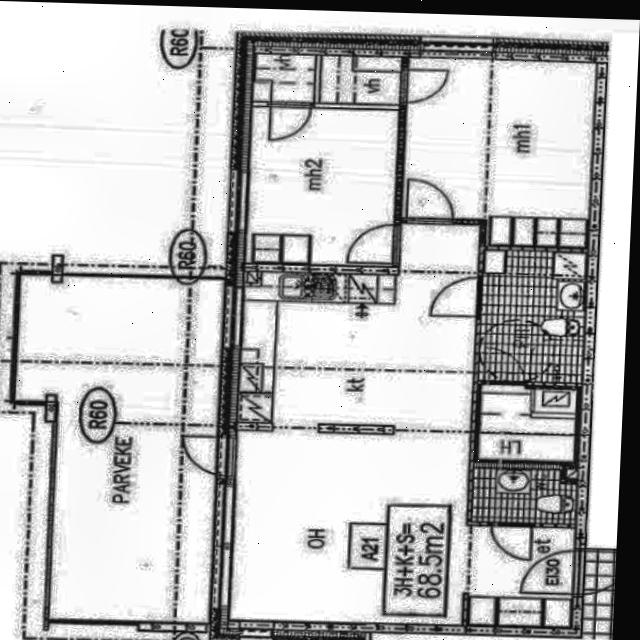room: (402, 55, 596, 249), (246, 104, 398, 268), (480, 250, 586, 384), (479, 383, 576, 462), (472, 467, 576, 523), (321, 55, 400, 103), (254, 53, 314, 102)
